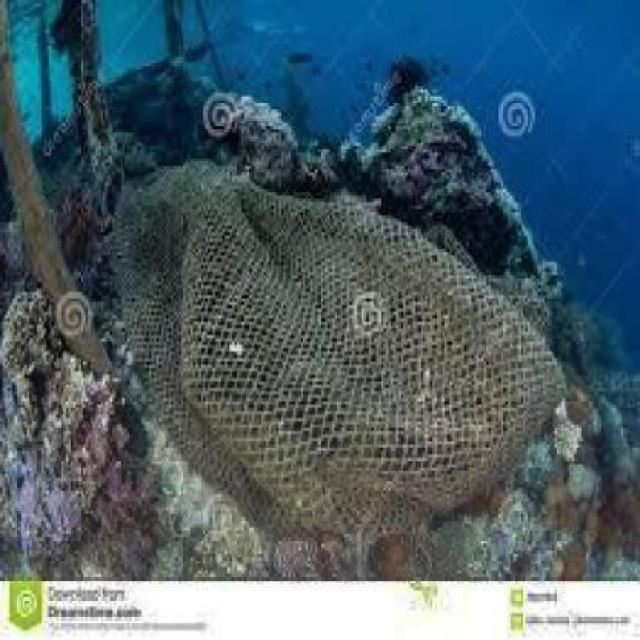net: (120, 175, 562, 528)
